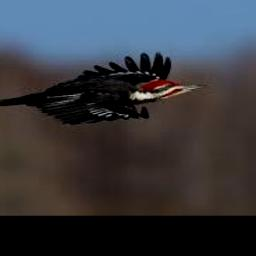Woodpecker: (0, 51, 209, 125)
